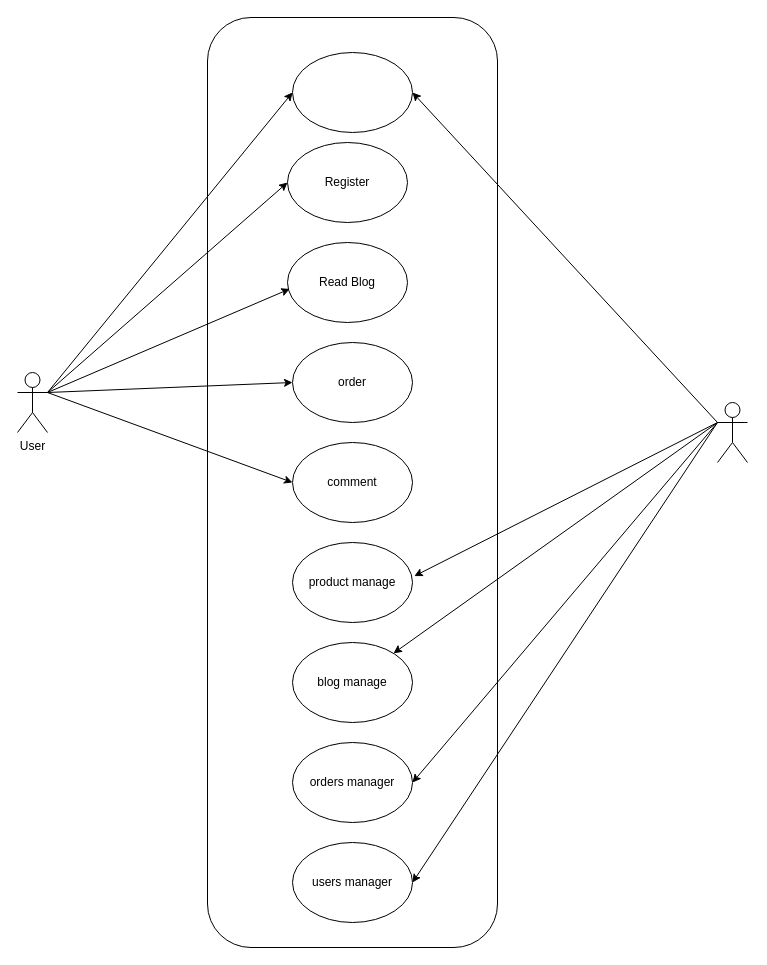
Some shapes in this 767 by 965 pixel diagram are drawn without their labels. The shapes that lost their labels are listed below. From the top down, each one's centre as x and y in pixels, then its label:
[352,92]: Login
[732,432]: Admin
